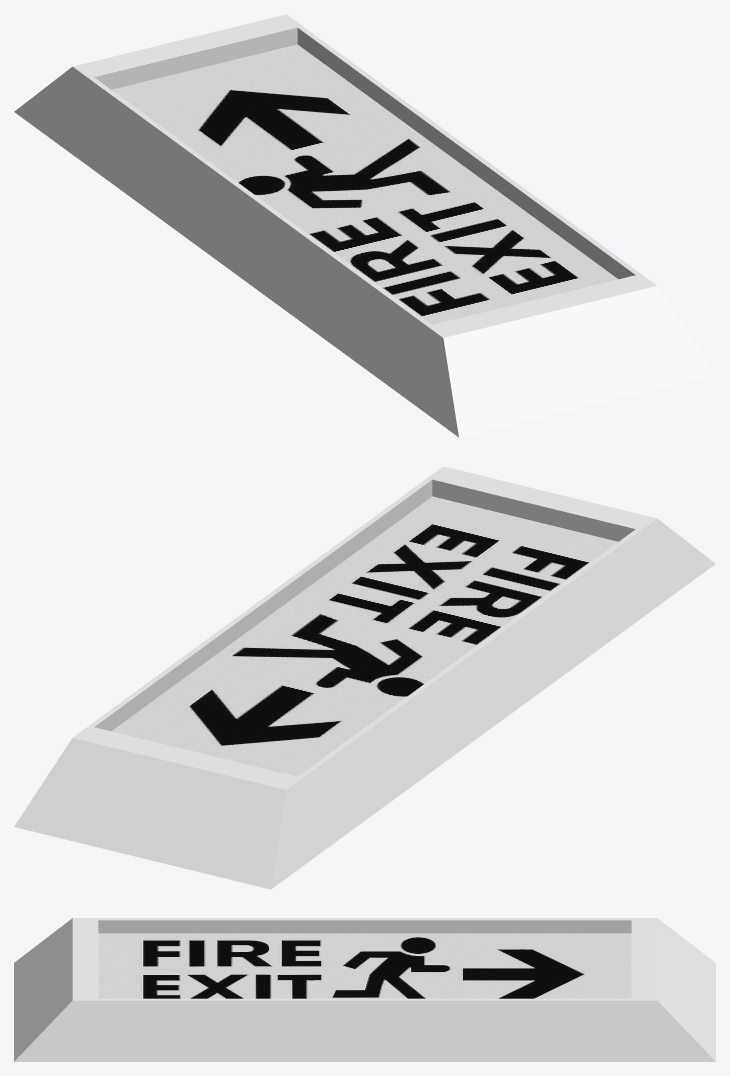
The model's file is sign_exit.glb.
3 views of the same model, one above another, from view 1: azimuth 30°, elevation 25°; view 2: azimuth 150°, elevation 25°; view 3: azimuth 270°, elevation 25° (orthographic). The views are drawn at different scales.
Parts seen in each view (by area): view 1: sign_exit; view 2: sign_exit; view 3: sign_exit.
Boxes of the visible parts, box(x1,y1,x2,y2) form: sign_exit: box(14, 14, 715, 437); sign_exit: box(14, 466, 715, 889); sign_exit: box(14, 918, 715, 1061).
Bounding box in the file's own units: 0.12 × 0.03 × 0.36.
2 materials, 2 textured.
